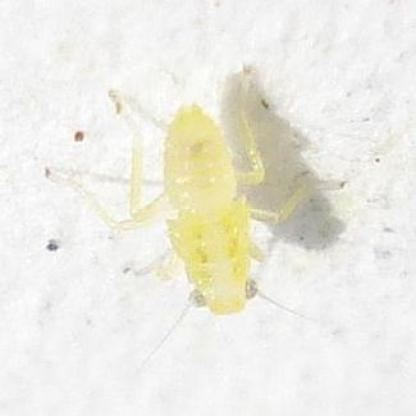green-leafhopper: (150, 96, 276, 319)
